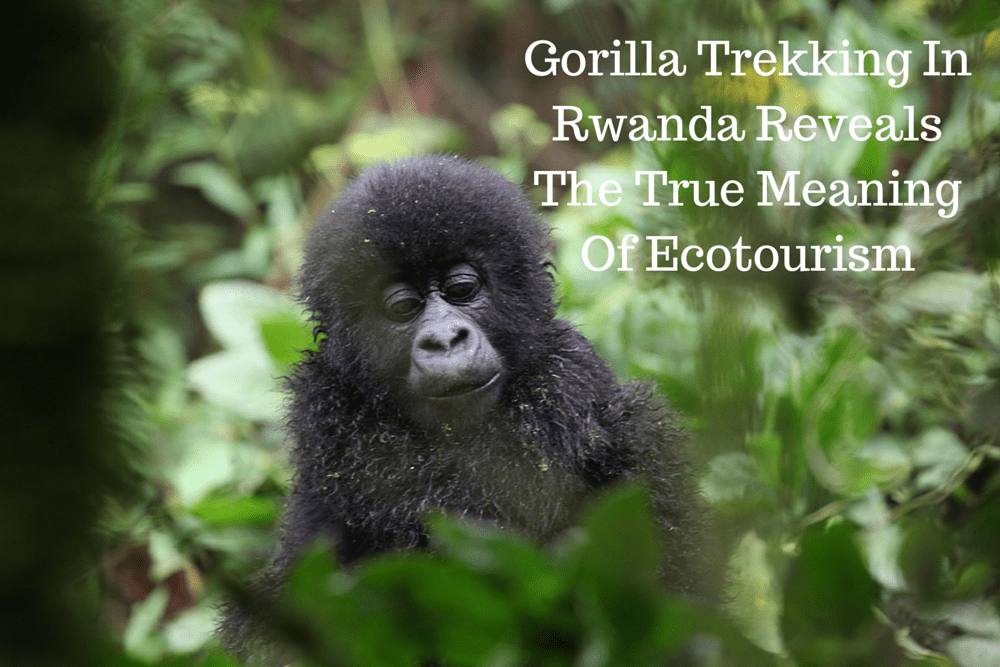Goriila: (225, 124, 659, 601)
